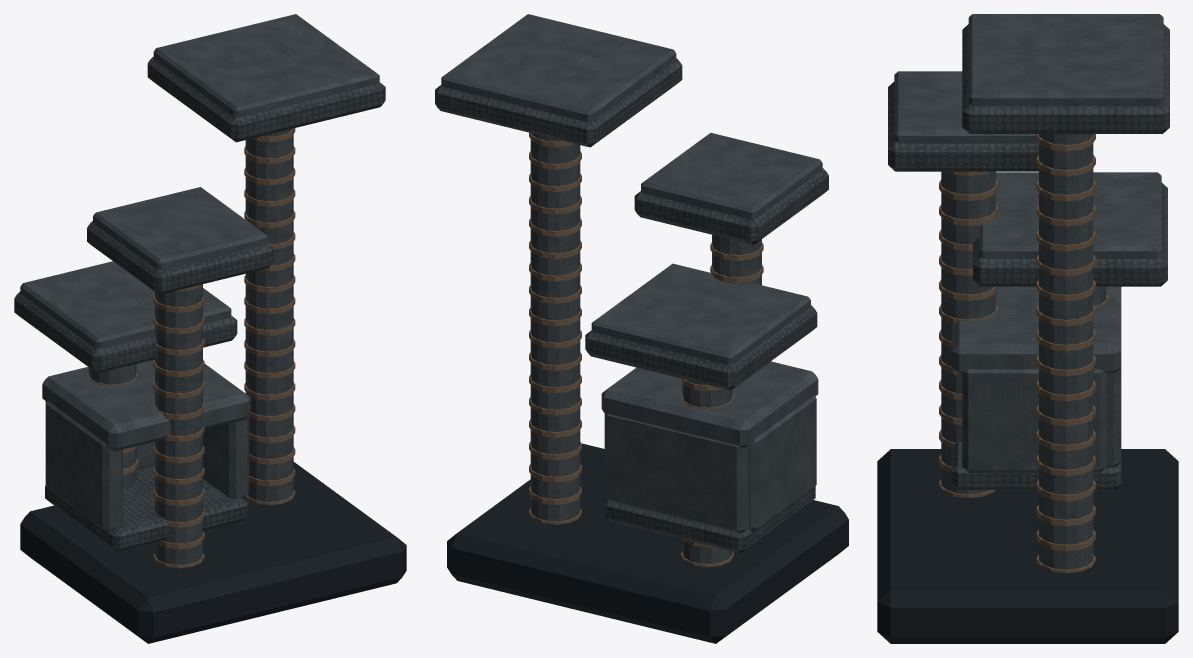
File: cat_tree.glb
The picture shows the model from 3 angles, left to right: view 1: azimuth 30°, elevation 25°; view 2: azimuth 150°, elevation 25°; view 3: azimuth 270°, elevation 25°; orthographic projection. The views are drawn at different scales.
Visible parts, largest first — view 1: fixed_fabric, fixed_black, fixed_hull, fixed_wood; view 2: fixed_fabric, fixed_black, fixed_hull, fixed_wood; view 3: fixed_fabric, fixed_black, fixed_hull, fixed_wood.
Boxes of the visible parts, x1,y1,x2,y2 form: fixed_fabric: (20,14,379,564); fixed_black: (20,462,406,643); fixed_hull: (14,56,385,551); fixed_wood: (87,128,295,568); fixed_fabric: (441,14,822,563); fixed_black: (447,443,848,643); fixed_hull: (435,58,828,553); fixed_wood: (529,132,763,567); fixed_fabric: (894,14,1163,569); fixed_black: (877,449,1178,643); fixed_hull: (888,24,1169,489); fixed_wood: (939,134,1108,573).
Size of the model in its own units: 0.915 by 1.46 by 0.71.
4 materials, 2 textured.
